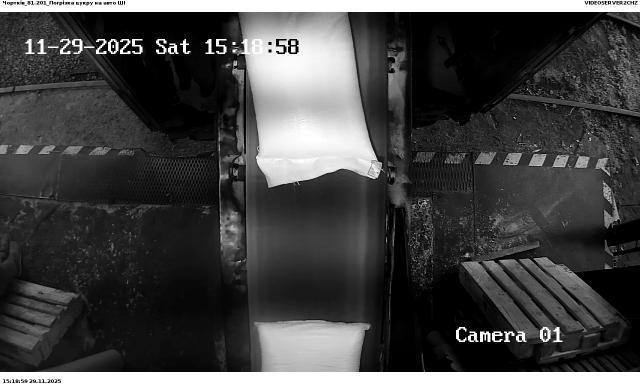bag: (236, 12, 383, 188), (254, 322, 371, 372)
